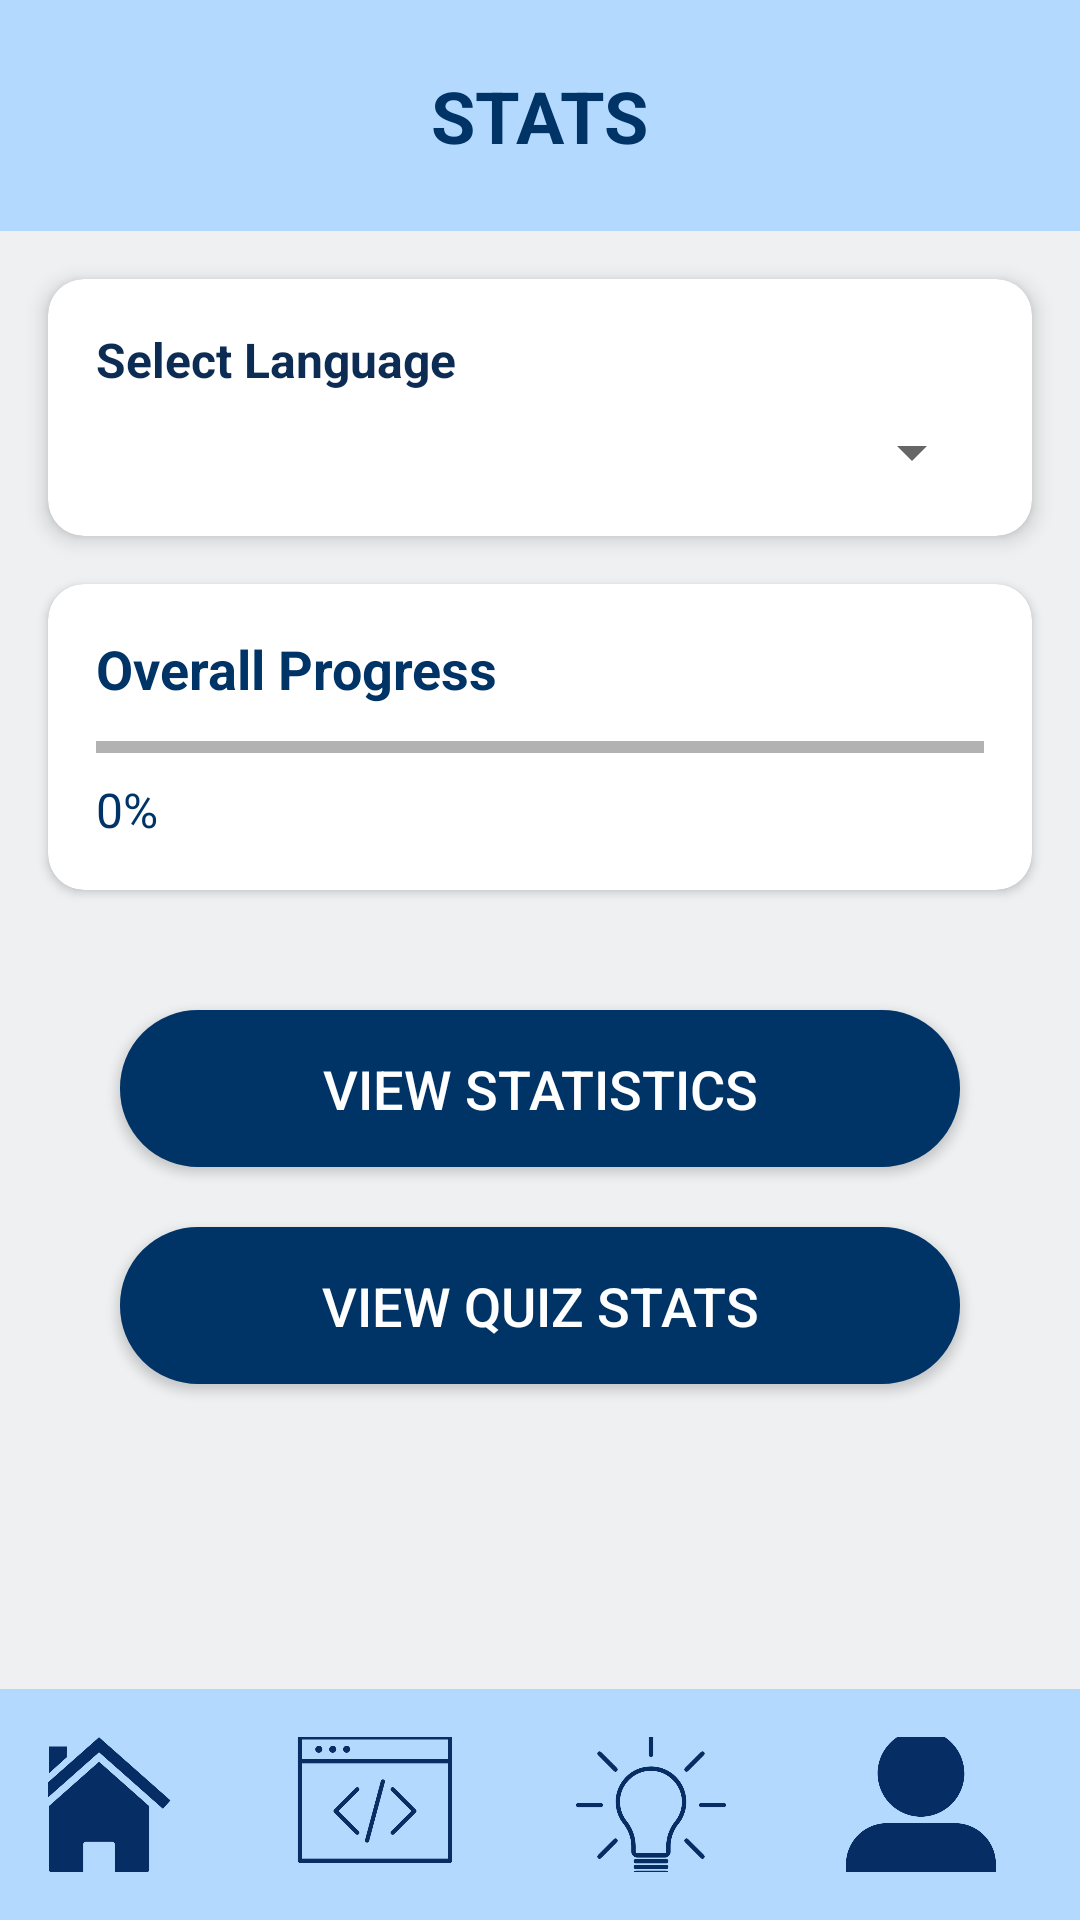

Named icons in this screenshot (1080×1920) and their bounding boxes, [x1=x1, y1=y1, x2=x2, y2=y2]:
code: [x1=298, y1=1737, x2=452, y2=1863]
home: [x1=48, y1=1737, x2=170, y2=1872]
profile: [x1=846, y1=1737, x2=996, y2=1872]
